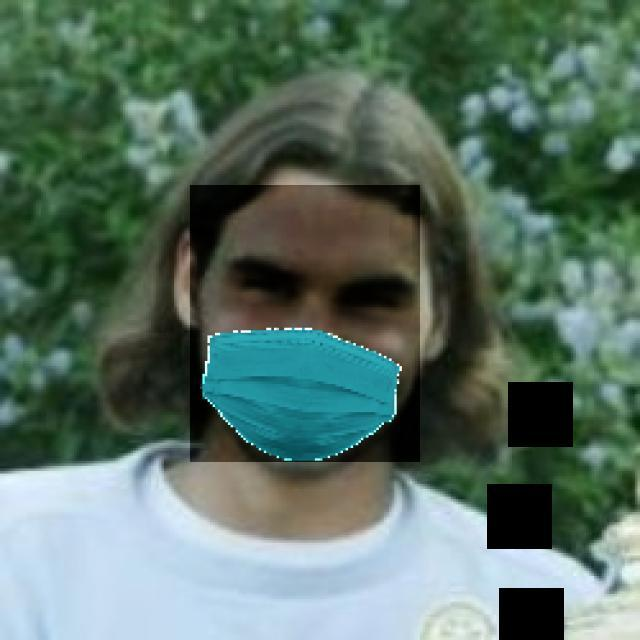surgical: (190, 185, 420, 462)
